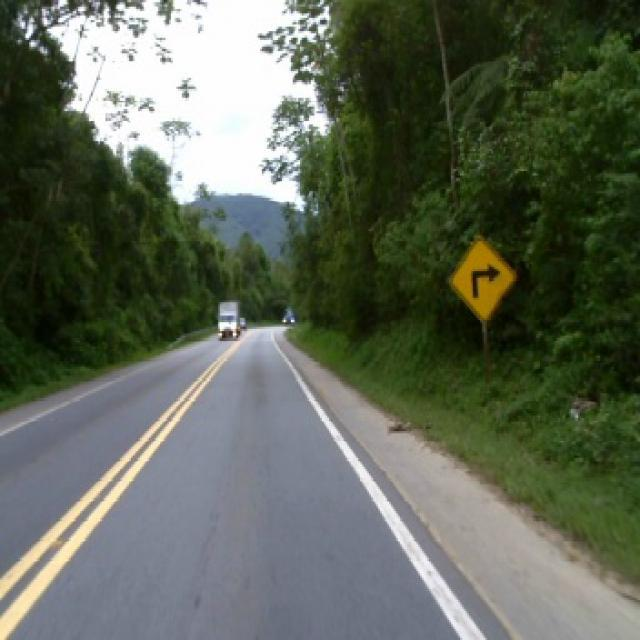Poth-hole: (50, 536, 64, 544)
